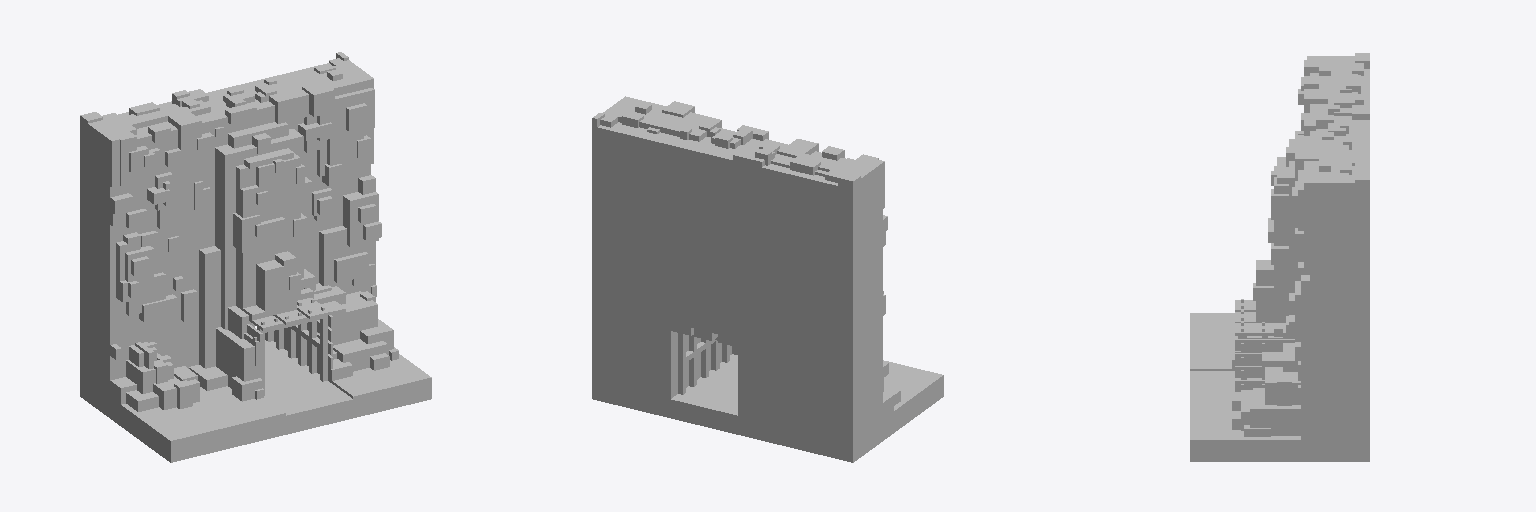
File: Mine-8-Cliff Mine.obj
The picture shows the model from 3 angles: view 1: azimuth 30°, elevation 25°; view 2: azimuth 150°, elevation 25°; view 3: azimuth 270°, elevation 25°; orthographic projection.
Visible parts, largest first — view 1: Cliff Mine; view 2: Cliff Mine; view 3: Cliff Mine.
Boxes of the visible parts, x1=… form: Cliff Mine: x1=80, y1=52, x2=431, y2=462; Cliff Mine: x1=592, y1=96, x2=943, y2=462; Cliff Mine: x1=1190, y1=53, x2=1369, y2=461.
Bounding box in the file's own units: 10 × 10.4 × 6.